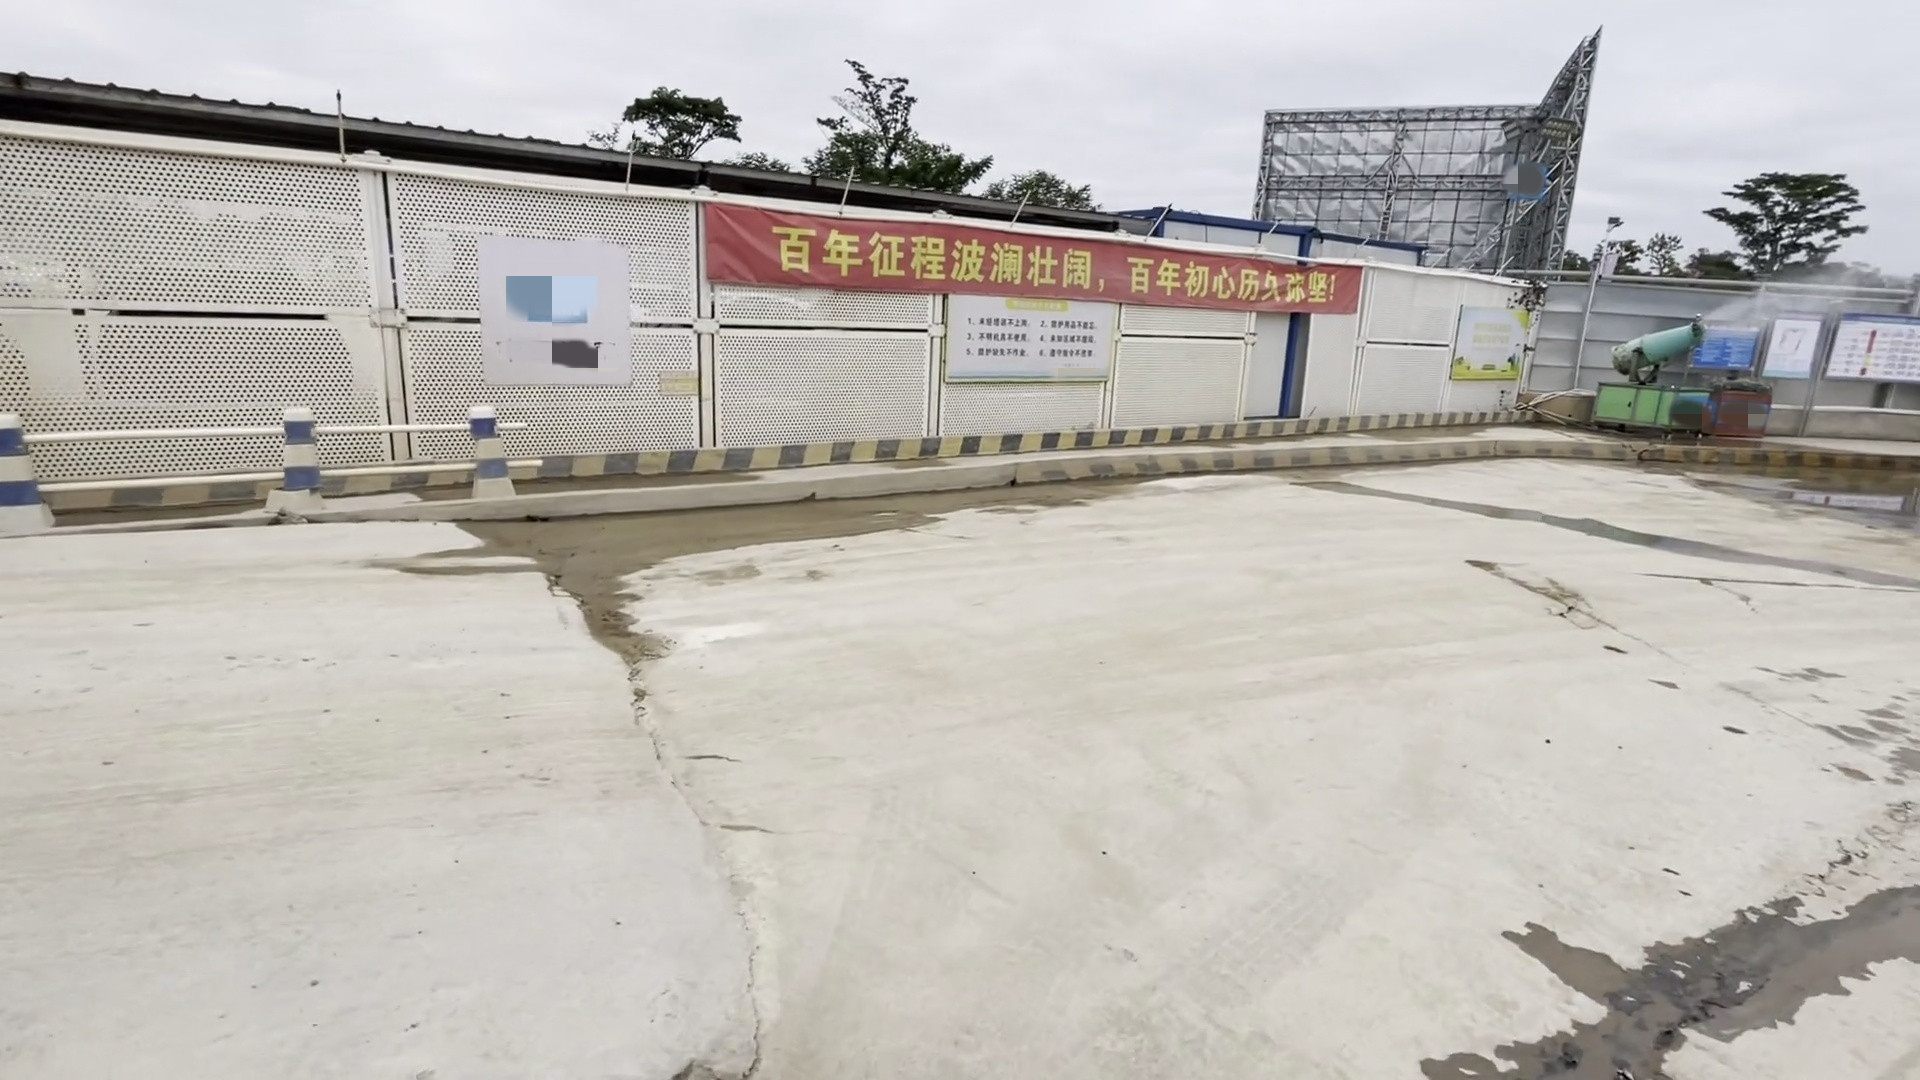slogan: (709, 204, 1348, 311), (942, 293, 1120, 382)
